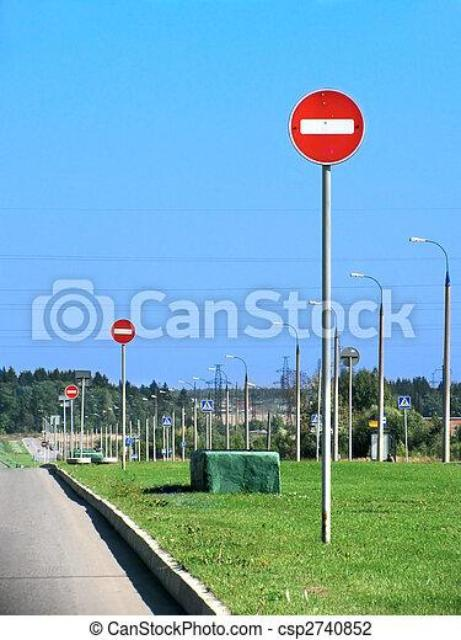B2: (286, 86, 366, 166)
